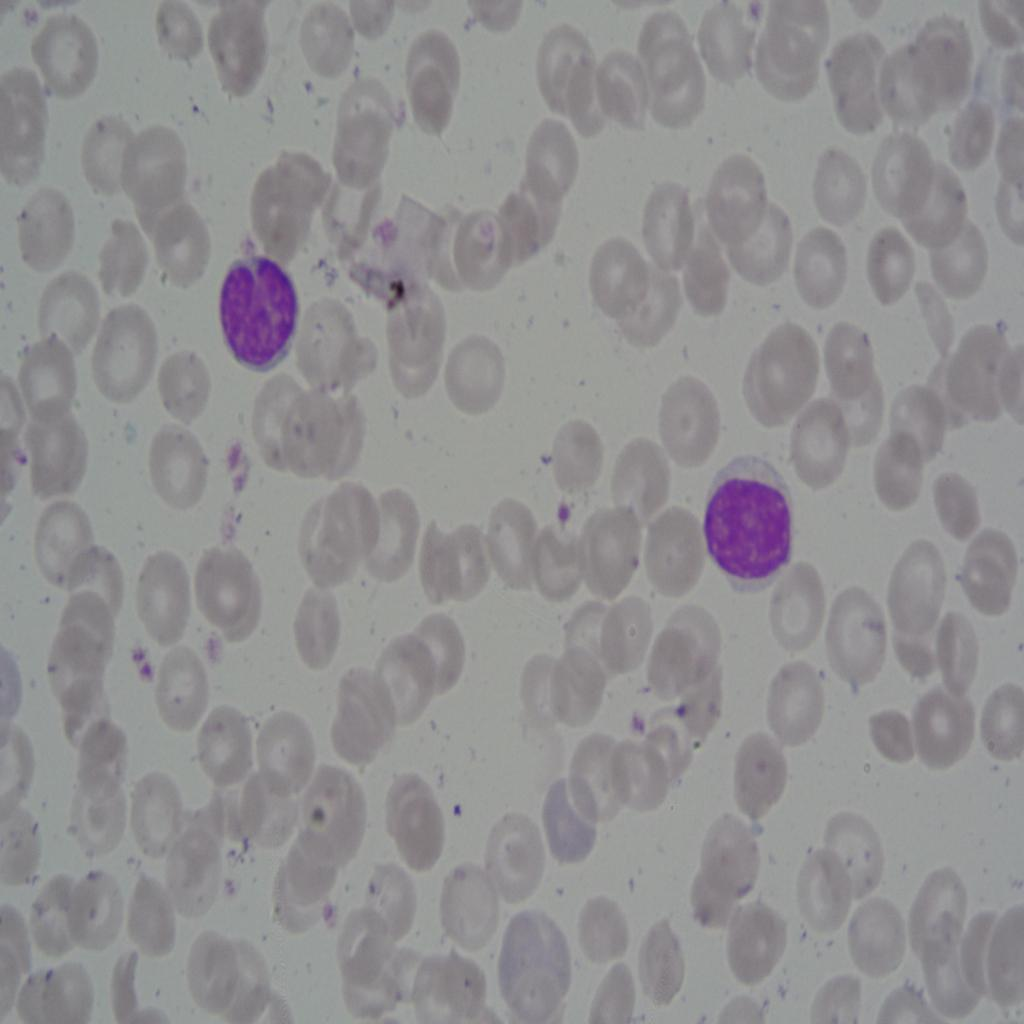Myeoblast: (689, 453, 786, 592), (208, 234, 296, 374)
Platelet: (541, 483, 584, 532), (224, 439, 242, 467), (124, 636, 141, 664), (142, 663, 156, 695), (228, 474, 246, 492)
